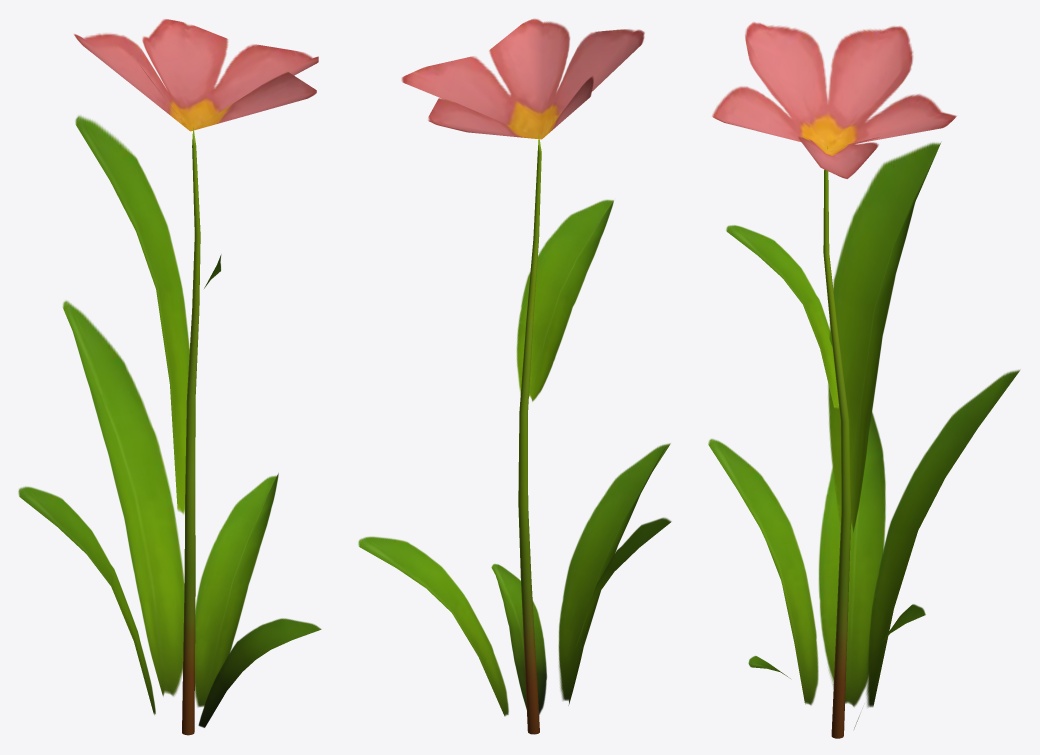
The model's file is n_flower_single.glb.
3 views of the same model, side by side, from view 1: azimuth 30°, elevation 25°; view 2: azimuth 150°, elevation 25°; view 3: azimuth 270°, elevation 25° (orthographic). The views are drawn at different scales.
Visible parts, largest first — view 1: Flower_3_Single; view 2: Flower_3_Single; view 3: Flower_3_Single.
Boxes of the visible parts, x1,y1,x2,y2 form: Flower_3_Single: [18, 19, 321, 735]; Flower_3_Single: [358, 18, 671, 734]; Flower_3_Single: [708, 22, 1020, 738].
Bounding box in the file's own units: 0.9067 × 2.07 × 0.8774.
2 materials, 2 textured.
